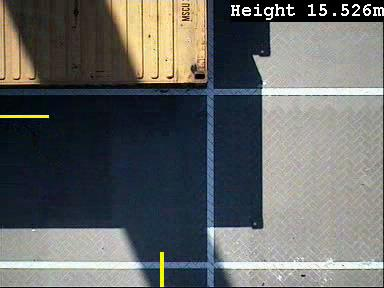groundmarker_2: (143, 54, 230, 109)
